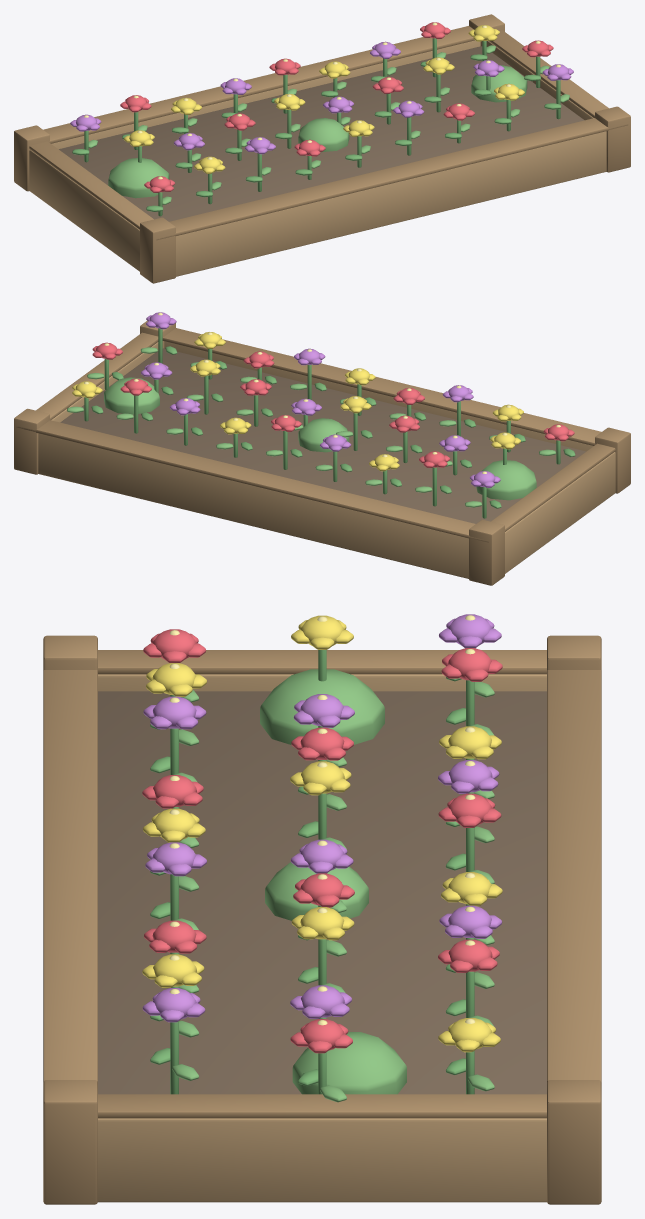
File: th16_blumenbeet.glb
3 renders of one model, top to bottom at view 1: azimuth 30°, elevation 25°; view 2: azimuth 150°, elevation 25°; view 3: azimuth 270°, elevation 25°, orthographic. The views are drawn at different scales.
Visible parts, largest first — view 1: Cube.008, Cube, Cube.001, Cube.003, Cube.004, Cube.002, Cube.005, Cube.009, Cube.007, Sphere.243, Cube.010, Cube.011 (+4 smaller); view 2: Cube.008, Cube.002, Cube.003, Cube.001, Cube.004, Cube, Cube.005, Cube.011, Cube.007, Cube.012, Sphere.243, Sphere.244 (+3 smaller); view 3: Cube.008, Cube.006, Cube.001, Cube.003, Cube.007, Cube.005, Cube.010, Cube.012, Sphere.243, Cube.004, Sphere.244, Sphere.245 (+29 smaller).
Part boxes in pixels (bbox=[...]): Cube.008: bbox=[59, 46, 584, 221]; Cube: bbox=[176, 131, 606, 276]; Cube.001: bbox=[156, 118, 628, 240]; Cube.003: bbox=[43, 26, 474, 143]; Cube.004: bbox=[29, 150, 139, 271]; Cube.002: bbox=[51, 40, 480, 149]; Cube.005: bbox=[29, 141, 153, 229]; Cube.009: bbox=[140, 217, 175, 283]; Cube.007: bbox=[489, 30, 608, 117]; Sphere.243: bbox=[108, 158, 169, 198]; Cube.010: bbox=[595, 106, 630, 172]; Cube.011: bbox=[14, 125, 49, 191]; Cube.008: bbox=[60, 348, 585, 523]; Cube.002: bbox=[38, 433, 468, 578]; Cube.003: bbox=[16, 420, 488, 542]; Cube.001: bbox=[162, 328, 601, 445]; Cube.004: bbox=[505, 452, 615, 573]; Cube: bbox=[164, 341, 593, 451]; Cube.005: bbox=[491, 443, 615, 531]; Cube.011: bbox=[469, 519, 504, 585]; Cube.007: bbox=[36, 332, 158, 420]; Cube.012: bbox=[14, 408, 49, 474]; Sphere.243: bbox=[476, 460, 536, 500]; Sphere.244: bbox=[104, 377, 159, 414]; Cube.008: bbox=[98, 691, 546, 1094]; Cube.006: bbox=[98, 1118, 546, 1202]; Cube.001: bbox=[43, 670, 97, 1082]; Cube.003: bbox=[547, 670, 601, 1082]; Cube.007: bbox=[98, 1094, 546, 1118]; Cube.005: bbox=[98, 650, 546, 674]; Cube.010: bbox=[43, 1080, 97, 1204]; Cube.012: bbox=[547, 1080, 601, 1204]; Sphere.243: bbox=[260, 669, 384, 744]; Cube.004: bbox=[98, 674, 546, 691]; Sphere.244: bbox=[292, 1032, 406, 1094]; Sphere.245: bbox=[265, 862, 368, 920].
Bounding box in the file's own units: 4.04 × 0.715 × 2.04.
